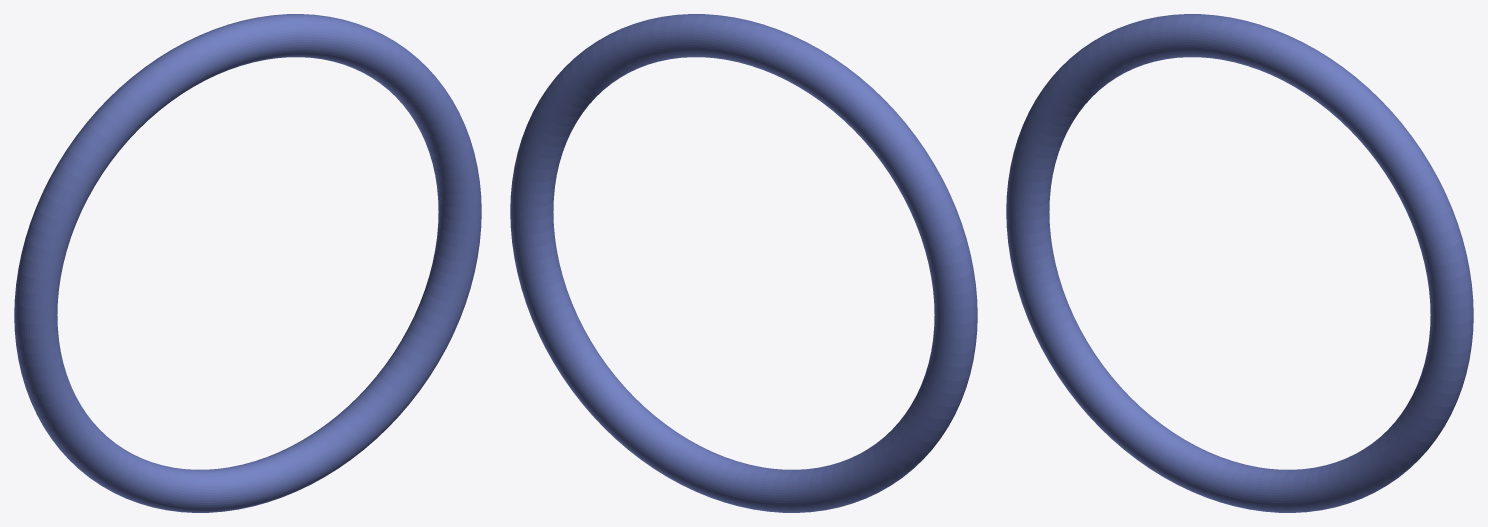
The picture shows the model from 3 angles, left to right: view 1: azimuth 30°, elevation 25°; view 2: azimuth 150°, elevation 25°; view 3: azimuth 330°, elevation 25°; orthographic projection.
Visible parts, largest first — view 1: world; view 2: world; view 3: world.
Part boxes in pixels (bbox=[...]): world: bbox=[14, 14, 481, 512]; world: bbox=[510, 14, 977, 512]; world: bbox=[1006, 14, 1473, 512].
Bounding box in the file's own units: 24.67 × 24.67 × 2.
